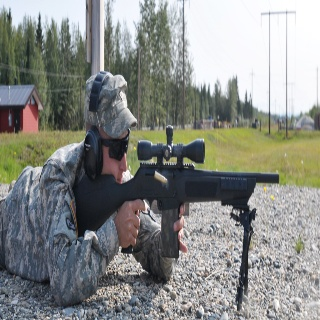shotgun: (74, 124, 281, 311)
